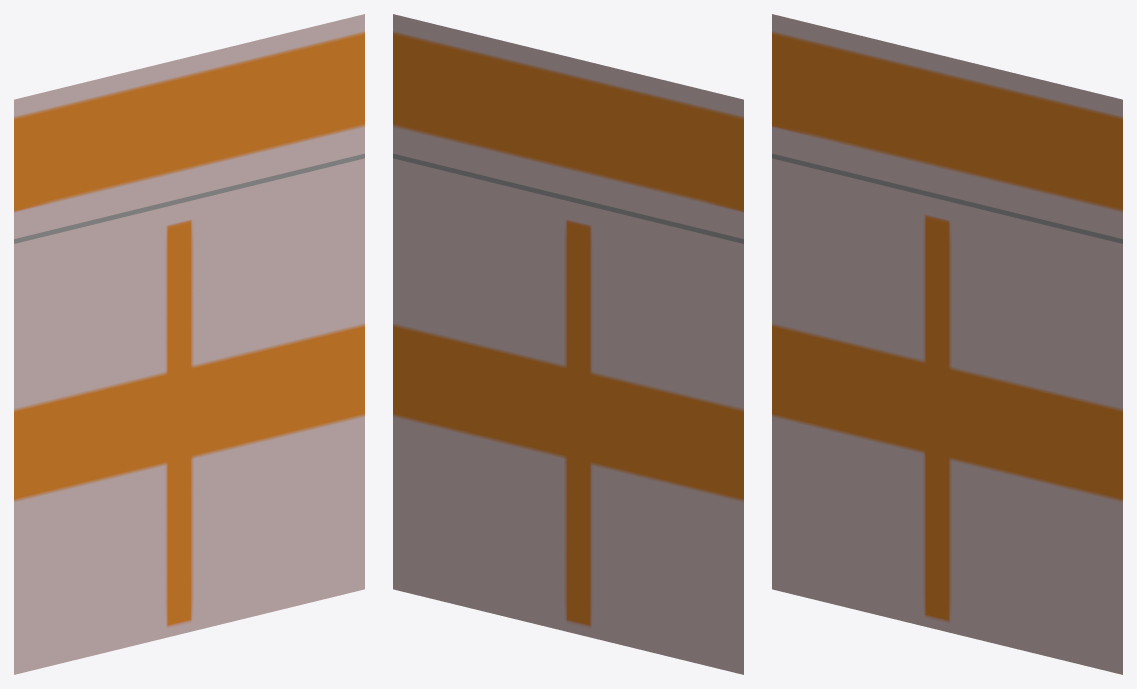
The model's file is Wall2_1.fbx.
The picture shows the model from 3 angles, left to right: view 1: azimuth 30°, elevation 25°; view 2: azimuth 150°, elevation 25°; view 3: azimuth 330°, elevation 25°; orthographic projection.
Visible parts, largest first — view 1: Wall2_1; view 2: Wall2_1; view 3: Wall2_1.
Part boxes in pixels (box(x1,y1,x2,y2)): Wall2_1: box(14, 14, 364, 674); Wall2_1: box(393, 14, 743, 674); Wall2_1: box(772, 14, 1122, 674).
Bounding box in the file's own units: 153 × 240 × 0.000122.
2 materials, 1 textured.
